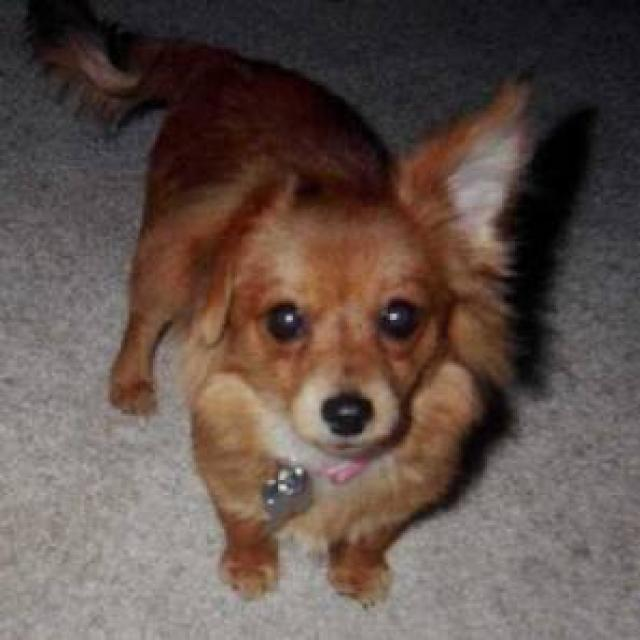dog-pomeranian: (34, 9, 537, 610)
